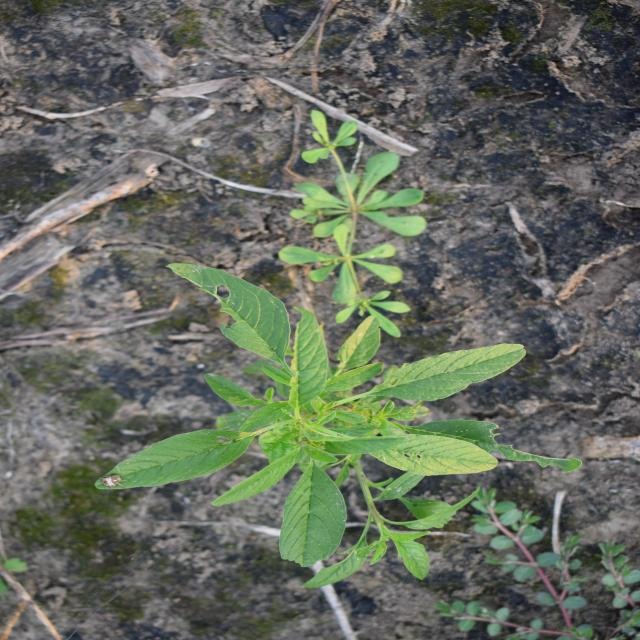Carpetweed: (276, 111, 429, 341)
SpottedSpurge: (431, 484, 637, 638)
Waterhemp: (91, 260, 586, 568)
